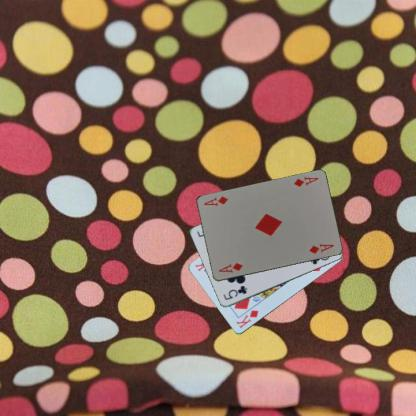5c: (221, 283, 248, 302)
Ad: (291, 174, 320, 188), (216, 260, 244, 274)
Kd: (233, 308, 260, 330)
